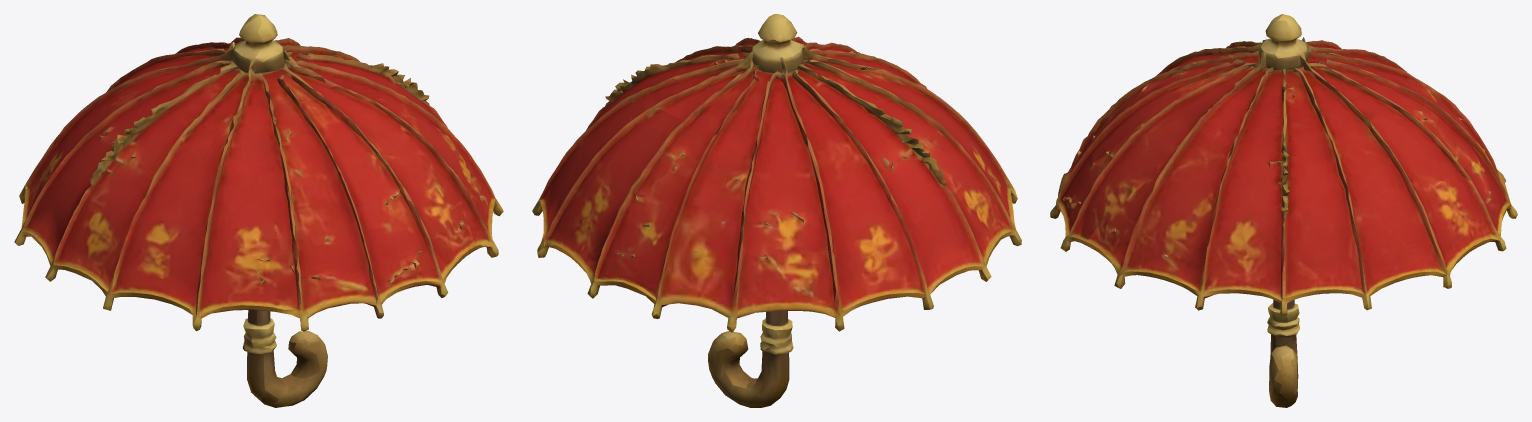
The model's file is umbrella.glb.
3 views of the same model, side by side, from view 1: azimuth 30°, elevation 25°; view 2: azimuth 150°, elevation 25°; view 3: azimuth 270°, elevation 25° (orthographic). The views are drawn at different scales.
Visible parts, largest first — view 1: geometry_0; view 2: geometry_0; view 3: geometry_0.
Part boxes in pixels (x1,y1,x2,y2): geometry_0: (14, 14, 503, 407); geometry_0: (532, 14, 1021, 407); geometry_0: (1050, 14, 1517, 407).
Bounding box in the file's own units: 0.9 × 0.8015 × 0.9013.
1 material, 1 textured.
